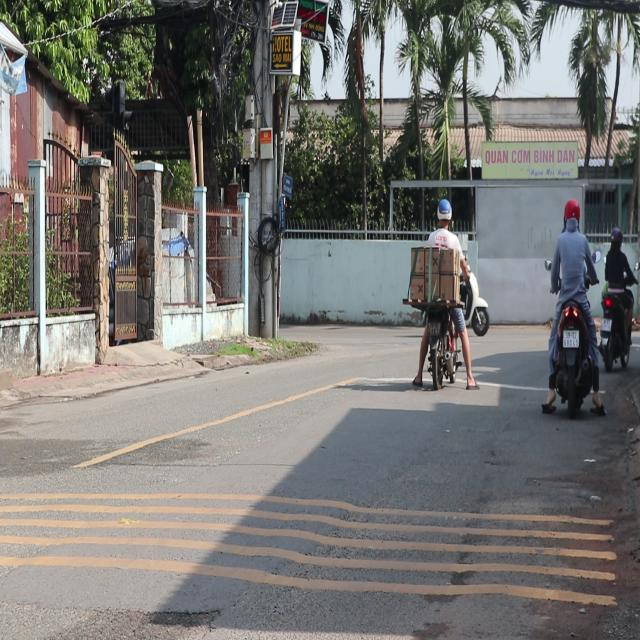helmet: (562, 196, 580, 229), (434, 196, 451, 226)
licenseplate: (406, 194, 476, 390), (544, 196, 600, 416)
nohelmet: (563, 330, 578, 347)
